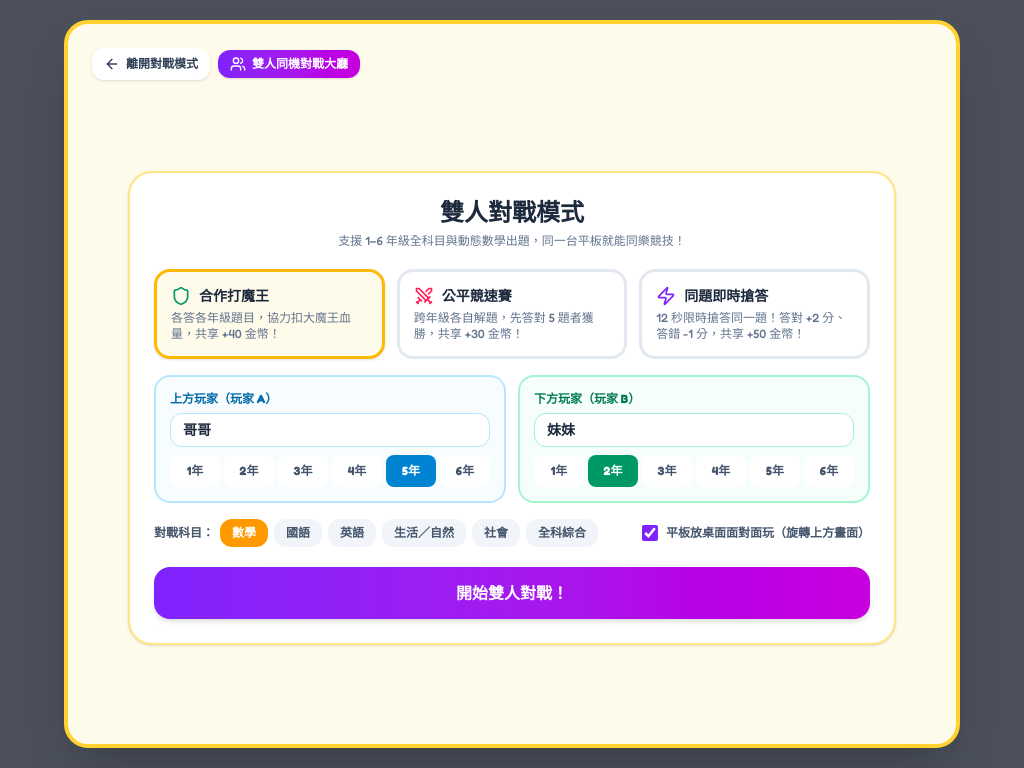
it: SiblingDuoArena gameplay & duoQuestionLoader › Speed Buzz-In Duel: locks wrong player, allows opponent steal, awards combo +3, supports keyboard shortcuts, and finishes with +50 coins
The image size is (1024, 768).
Note: Switch to Speed Duel mode and start
Click the text "同題即時搶答": (712, 296) x1=656 y1=286 x2=768 y2=306
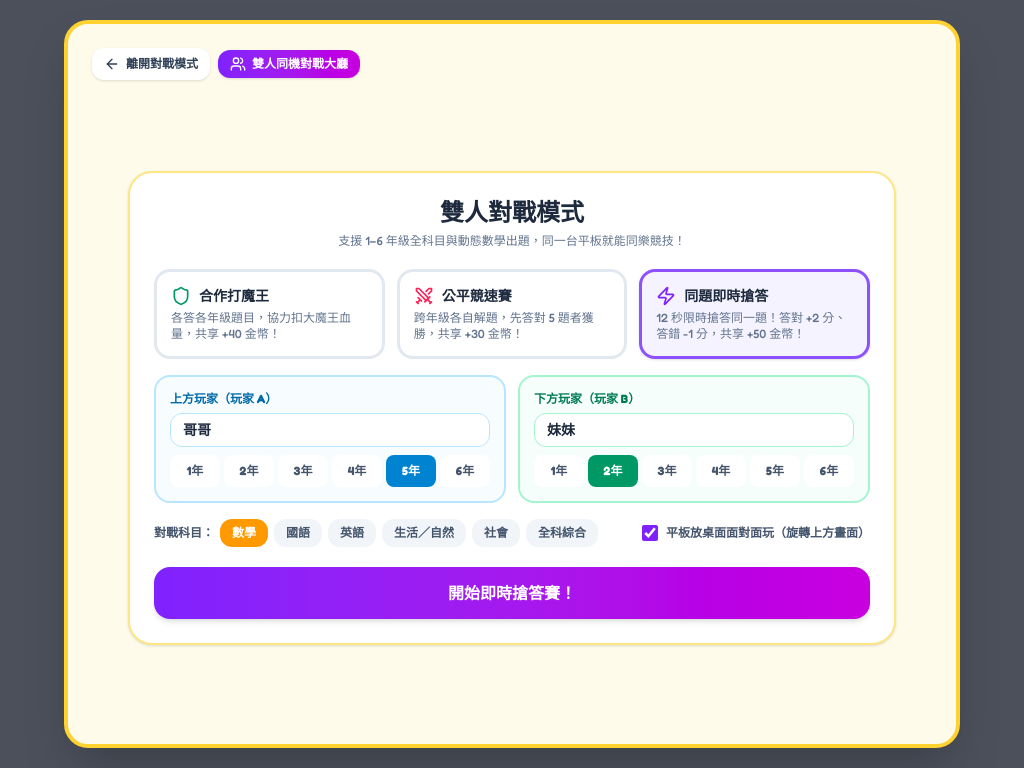
Click the button "開始即時搶答賽！": (512, 593) x1=154 y1=567 x2=870 y2=619
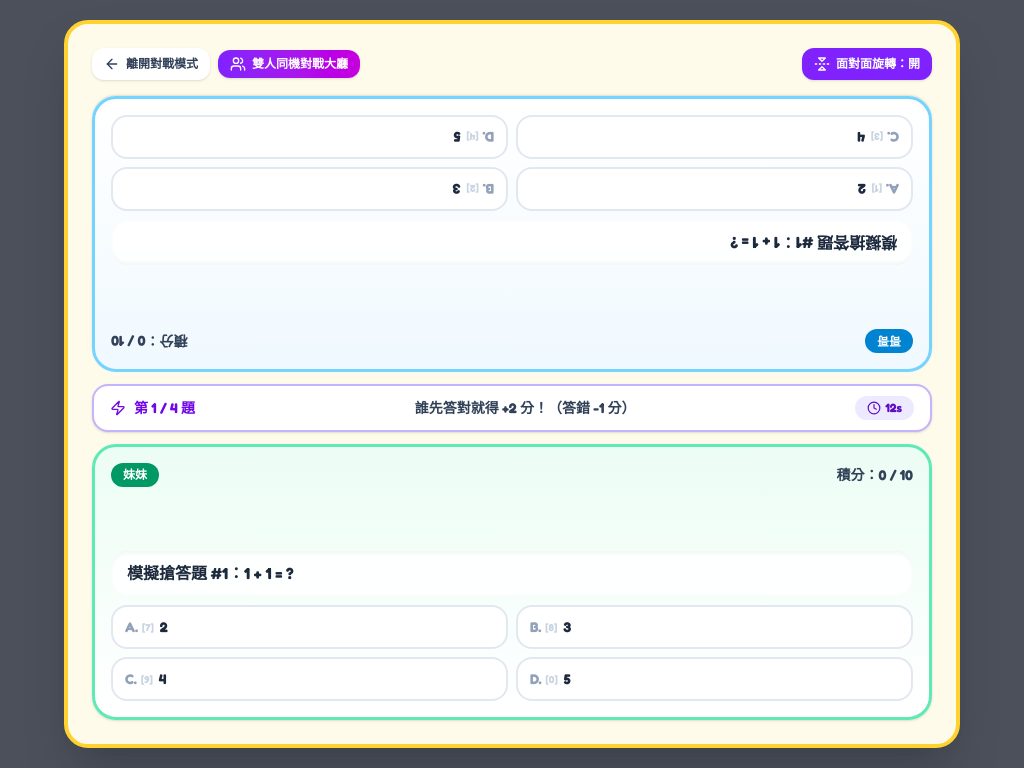
Now the text "第 1 / 4 題" is shown, box x1=110 y1=398 x2=195 y2=418
Click the button "B. [2] 3": (490, 190) x1=111 y1=167 x2=508 y2=211
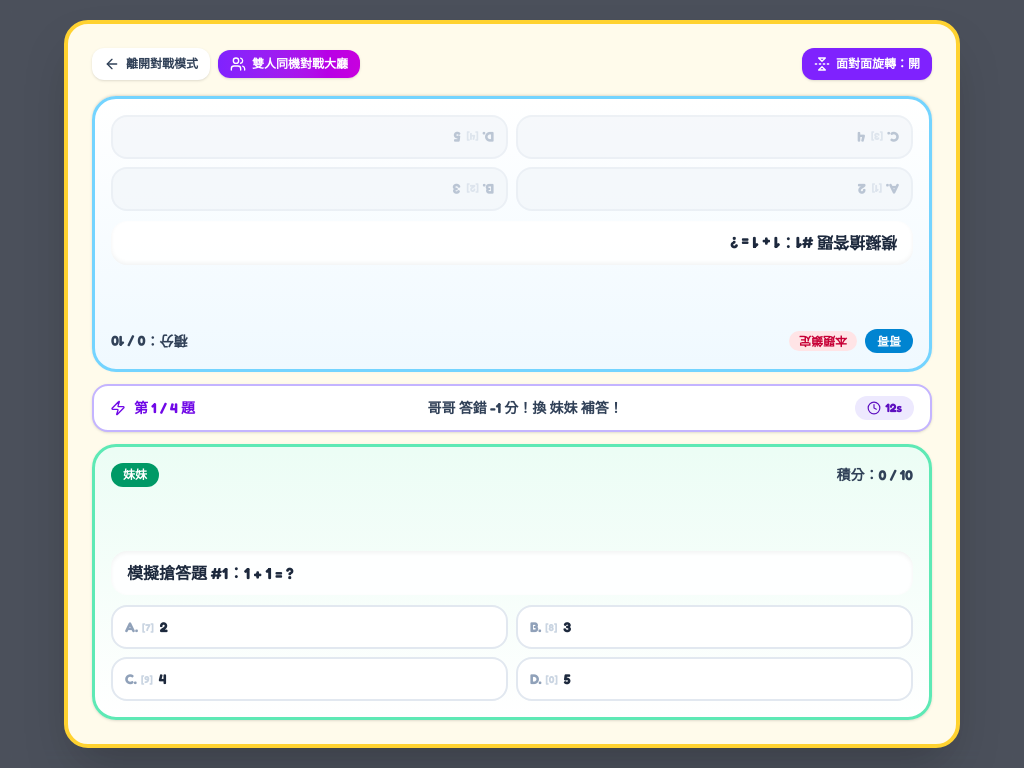
Now the text "哥哥 答錯 -1 分！換 妹妹 補答！" is shown, box x1=427 y1=399 x2=623 y2=416
Now the text "本題鎖定" is shown, box x1=789 y1=331 x2=857 y2=351
Click the button "A. [7] 2": (130, 626) x1=111 y1=605 x2=508 y2=649
Wait 950 ms
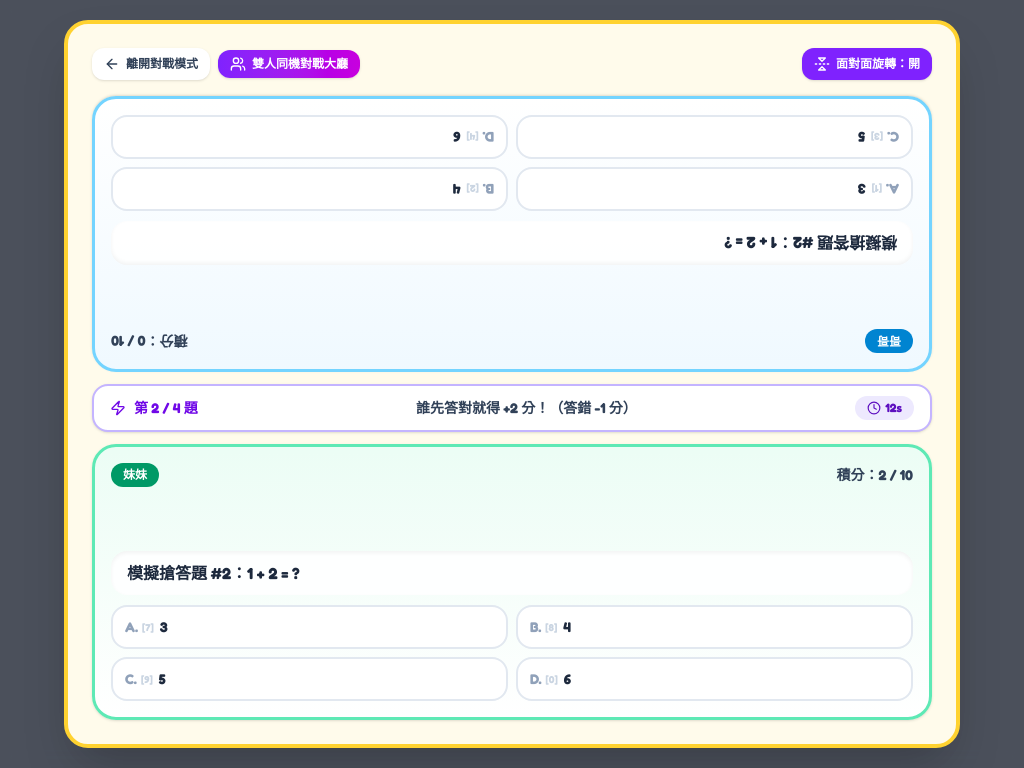
Now the text "妹妹 搶答成功！+2 分" is shown, box x1=416 y1=399 x2=637 y2=416
Now the text "積分：2 / 10" is shown, box x1=836 y1=465 x2=913 y2=485
Now the text "第 2 / 4 題" is shown, box x1=110 y1=398 x2=198 y2=418
Press 7
Wait 13900 ms
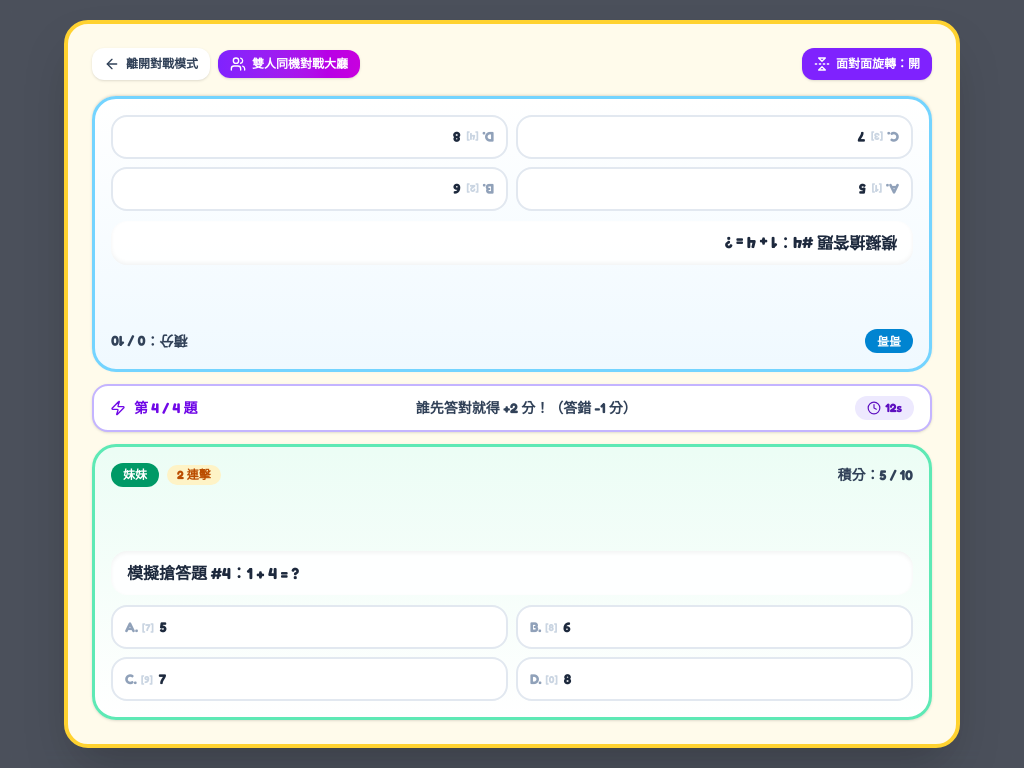
Now the text "時間到！無人搶答成功，直接進入下一題" is shown, box x1=416 y1=399 x2=637 y2=416
Now the text "積分：5 / 10" is shown, box x1=837 y1=465 x2=913 y2=485
Now the text "第 4 / 4 題" is shown, box x1=110 y1=398 x2=198 y2=418
Press 1
Wait 750 ms
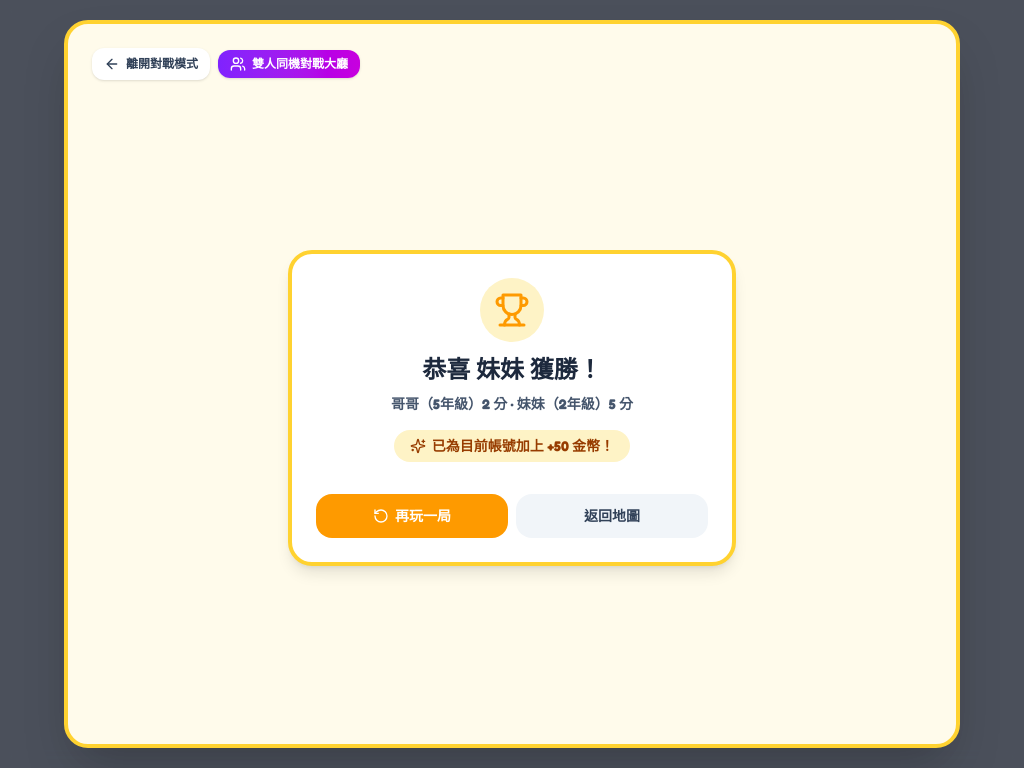
Now the heading "恭喜 妹妹 獲勝！" is shown, box x1=422 y1=355 x2=602 y2=384
